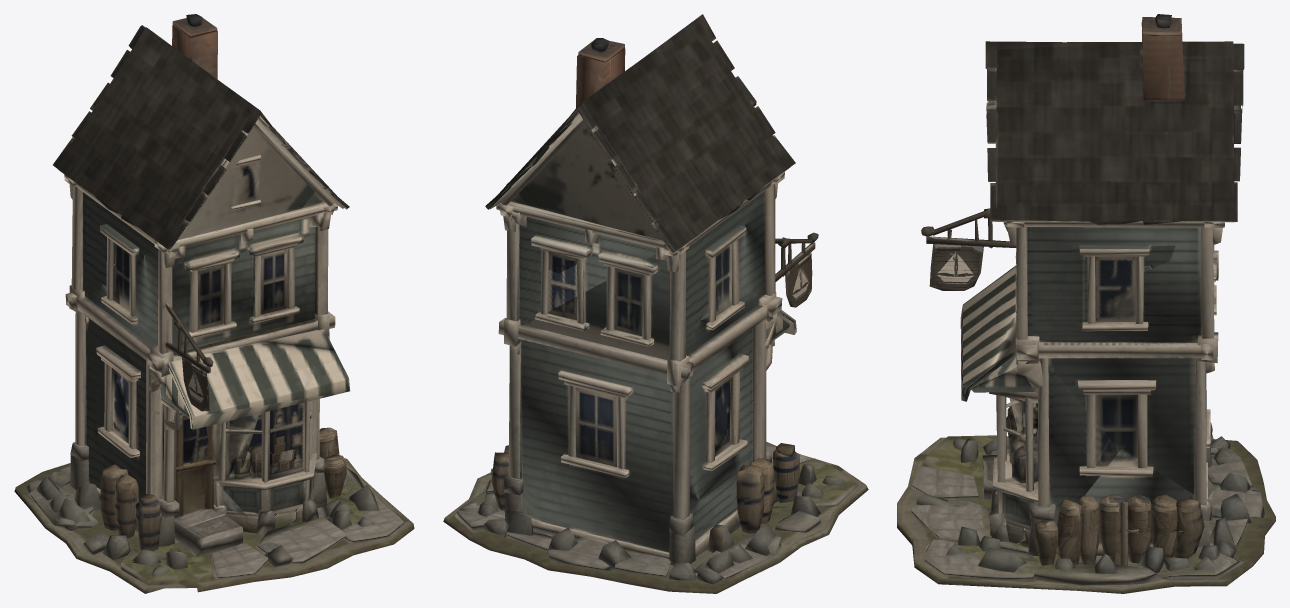
The model's file is Meshy_AI_storefront_3_textured_0921204819_texture.glb.
3 views of the same model, side by side, from view 1: azimuth 30°, elevation 25°; view 2: azimuth 150°, elevation 25°; view 3: azimuth 270°, elevation 25° (orthographic). The views are drawn at different scales.
Bounding box in the file's own units: 1.36 × 2 × 1.36.
1 material, 1 textured.
